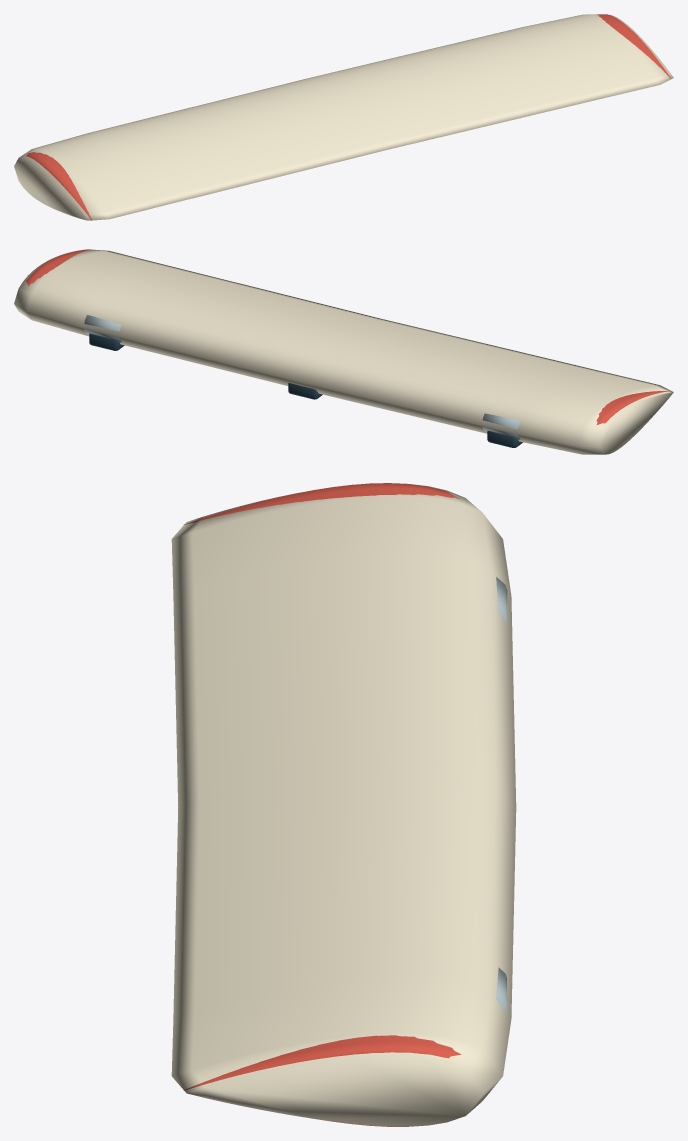
Rendered from aileron.glb.
3 views of the same model, one above another, from view 1: azimuth 30°, elevation 25°; view 2: azimuth 150°, elevation 25°; view 3: azimuth 270°, elevation 25° (orthographic). The views are drawn at different scales.
Visible parts, largest first — view 1: Flap_Ivory, Flap_Paint; view 2: Flap_Ivory, Flap_Paint, aileron_Navy, aileron_Aluminium; view 3: Flap_Ivory, Flap_Paint.
Part boxes in pixels (bbox=[...]): Flap_Ivory: bbox=[14, 14, 673, 220]; Flap_Paint: bbox=[26, 14, 671, 220]; Flap_Ivory: bbox=[14, 249, 673, 454]; Flap_Paint: bbox=[26, 249, 670, 424]; aileron_Navy: bbox=[89, 333, 522, 447]; aileron_Aluminium: bbox=[84, 315, 520, 439]; Flap_Ivory: bbox=[171, 484, 516, 1126]; Flap_Paint: bbox=[183, 483, 461, 1126].
Bounding box in the file's own units: 1.2 × 0.08 × 0.3057.
